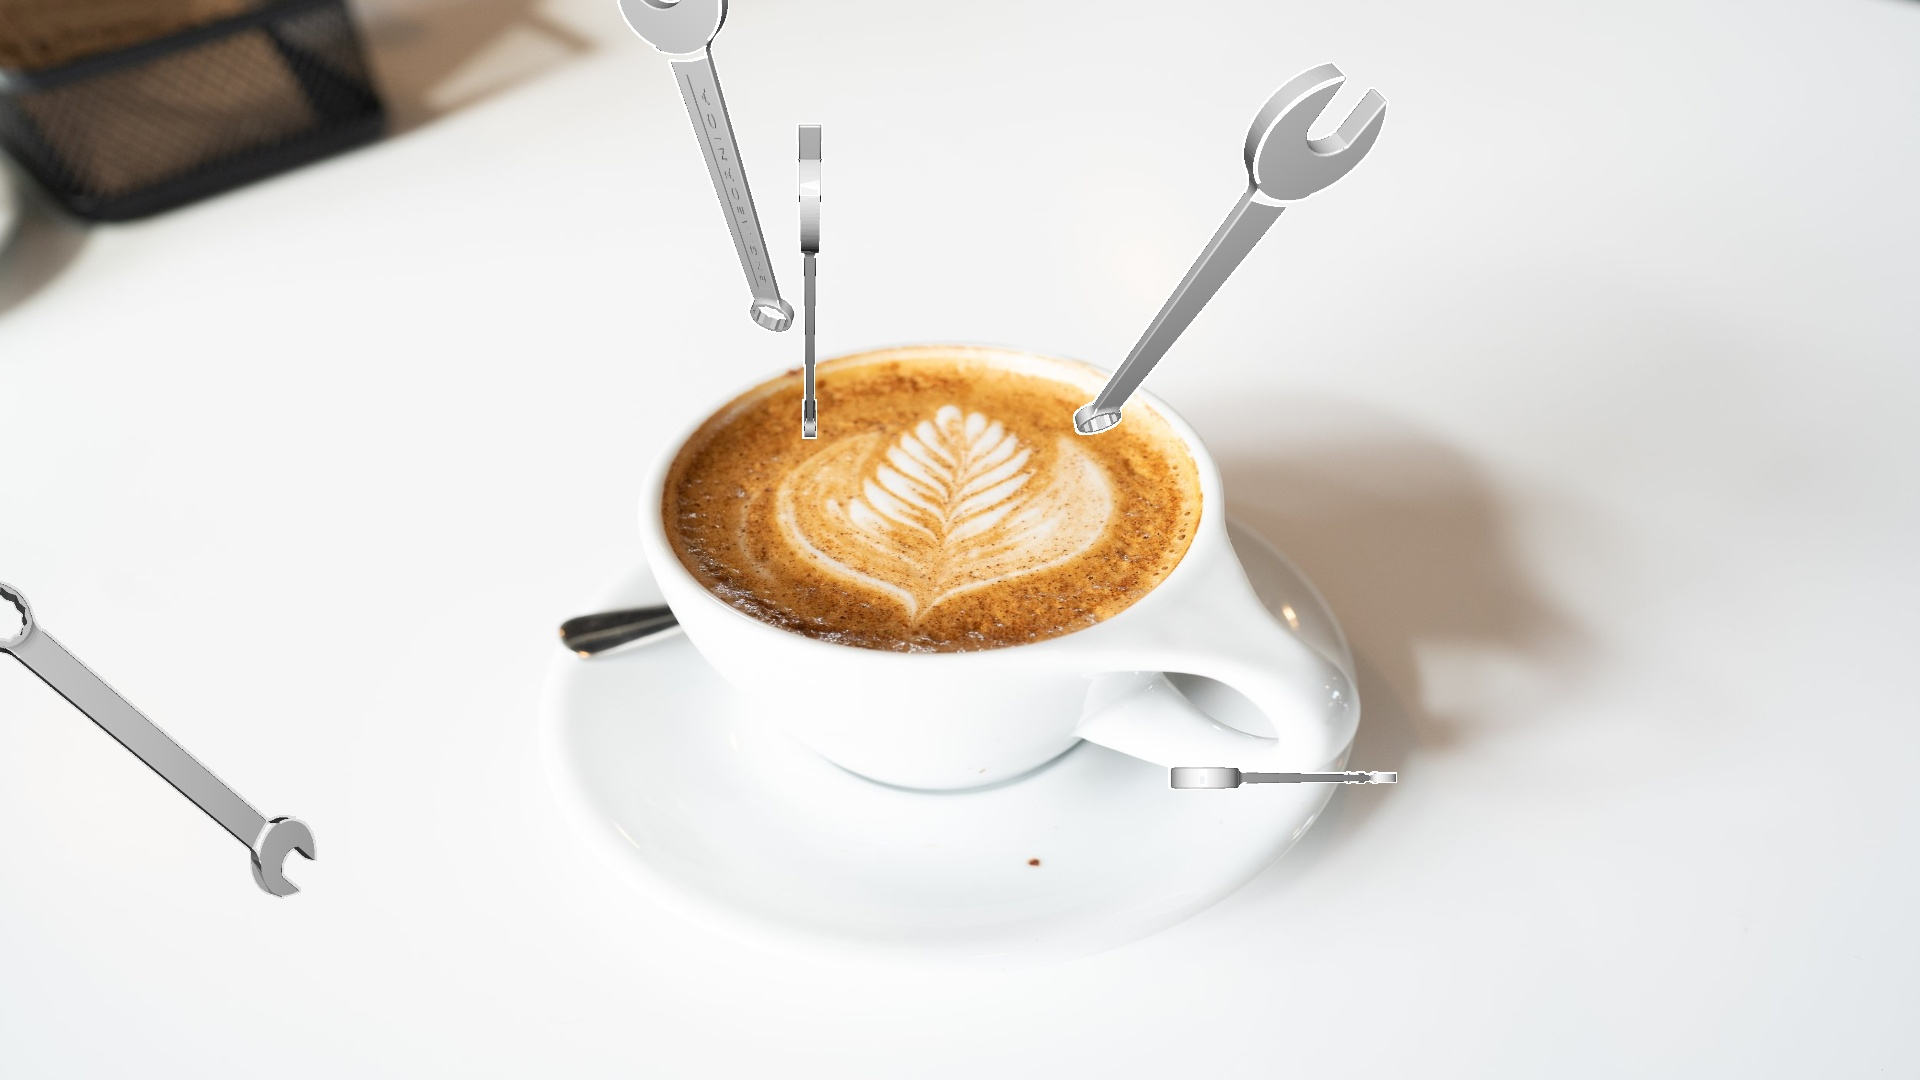Mixed Key: (1073, 62, 1389, 434), (0, 582, 316, 898), (617, 0, 795, 332), (795, 123, 823, 438), (1168, 765, 1396, 789)
